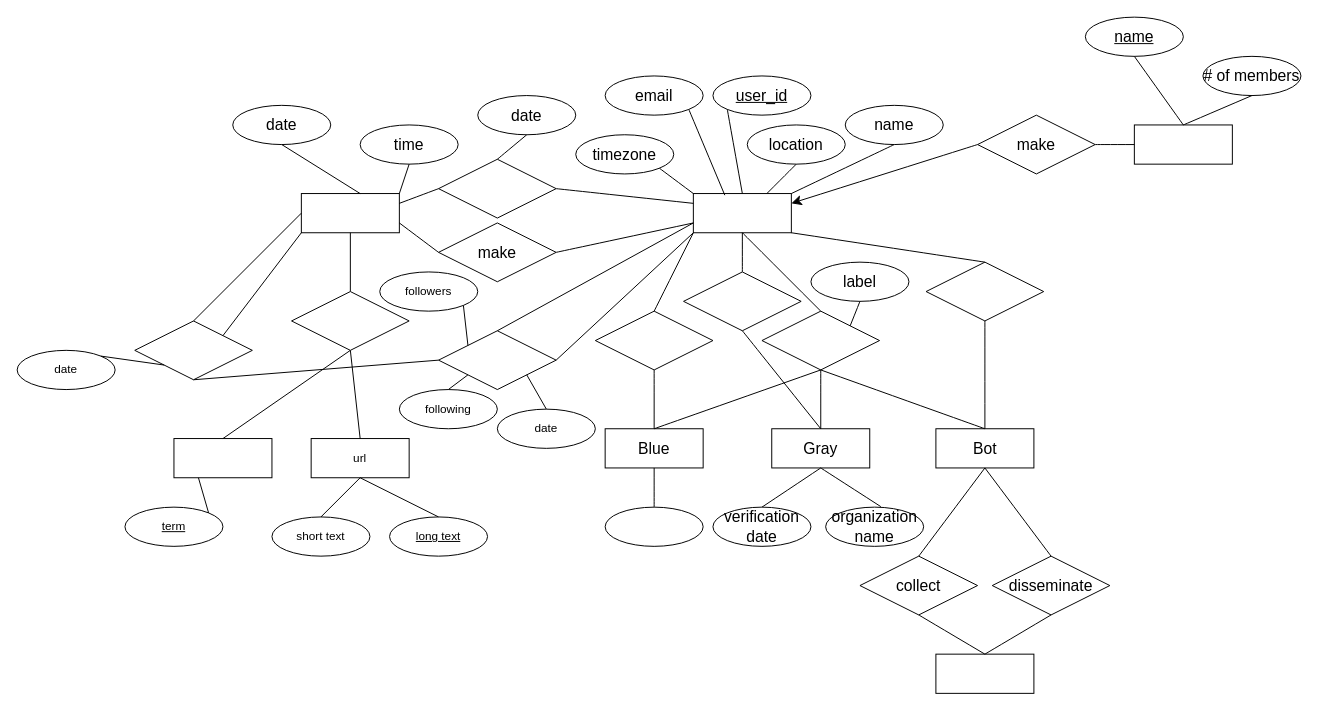
Image size: 1318x711. Some labels were removed from this diagram. The shapes that lost their labels are listed below. From the top down, each one's centre as x and y in pixels, then its label:
At (x=1182, y=144): "favourite list".
At (x=497, y=188): "reply".
At (x=349, y=213): "Tweets".
At (x=741, y=213): "user".
At (x=742, y=301): "affiliated".
At (x=984, y=291): "owned_by".
At (x=350, y=320): "mentions".
At (x=653, y=340): "subscription".
At (x=820, y=340): "c_have".
At (x=193, y=350): "retweet".
At (x=497, y=360): "follow".
At (x=222, y=458): "hashtag".
At (x=653, y=526): "credit card #".
At (x=984, y=673): "content".
